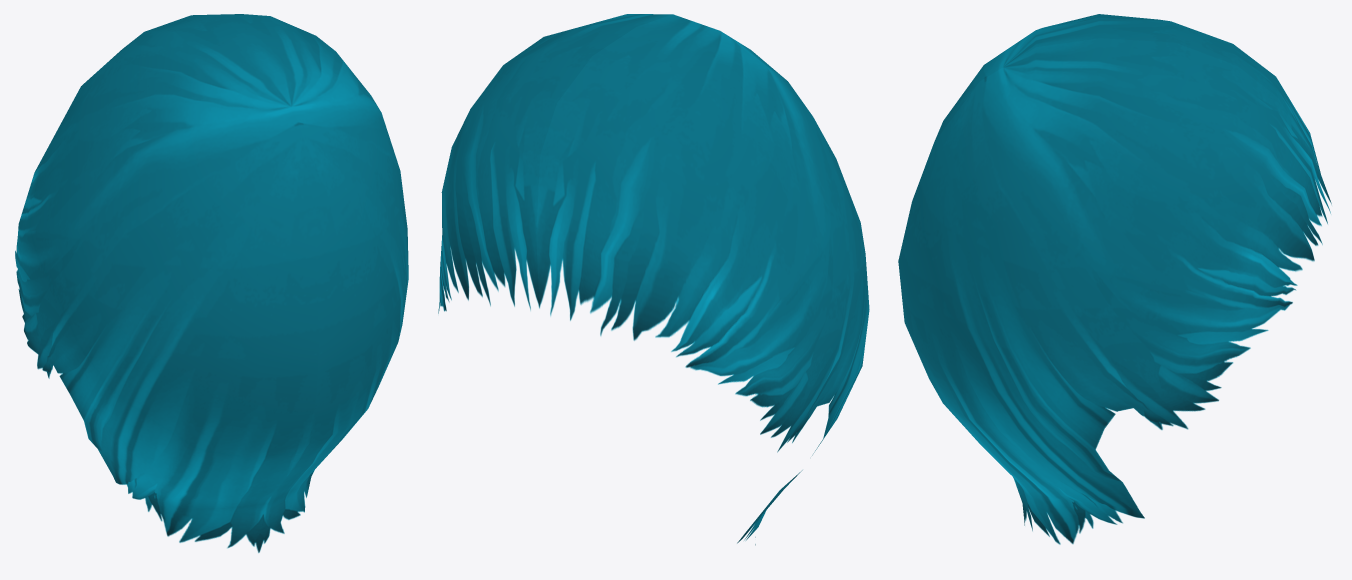
Rendered from editable-export.glb.
The picture shows the model from 3 angles, left to right: view 1: azimuth 30°, elevation 25°; view 2: azimuth 150°, elevation 25°; view 3: azimuth 270°, elevation 25°; orthographic projection. The views are drawn at different scales.
Parts seen in each view (by area): view 1: Hair_candidate; view 2: Hair_candidate; view 3: Hair_candidate.
Boxes of the visible parts, bbox=[...] form: Hair_candidate: bbox=[15, 14, 408, 552]; Hair_candidate: bbox=[438, 14, 869, 545]; Hair_candidate: bbox=[898, 14, 1331, 544].
Bounding box in the file's own units: 0.195 × 0.2798 × 0.2173.
1 material, 1 textured.
